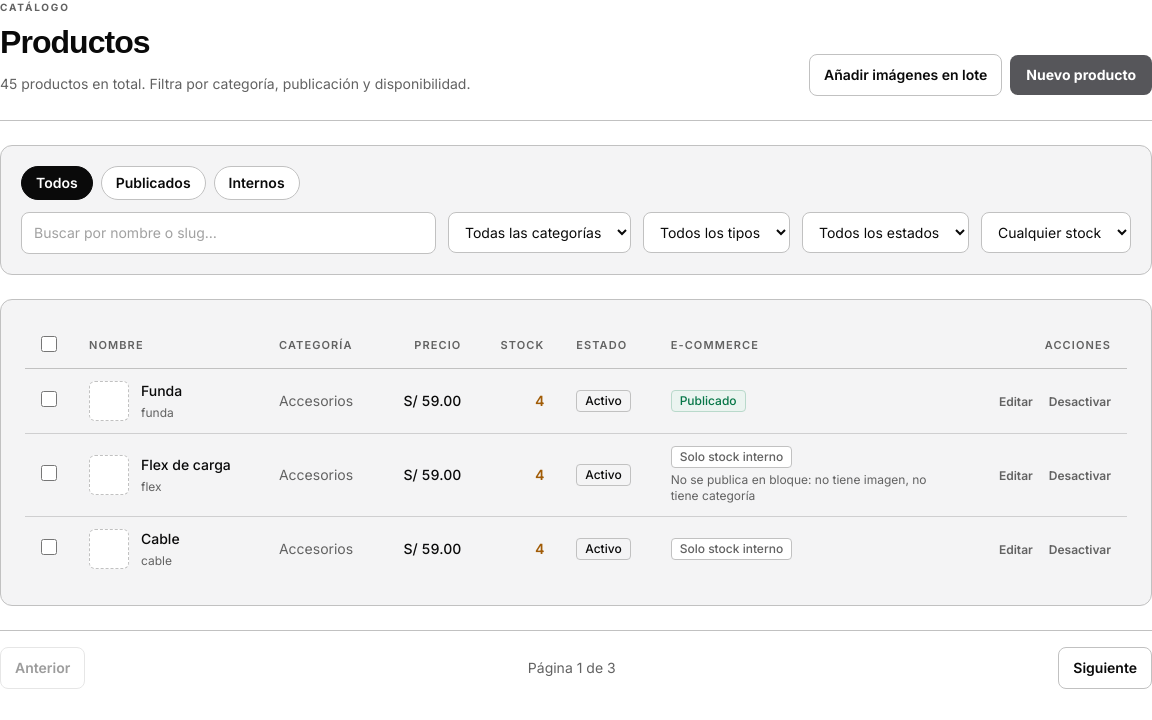
Test: la selección › con la página entera marcada y más resultados, ofrece todos con el total exacto
The width and height of the screenshot is (1152, 720).
Check: the link "Funda" is shown, box [141,382,182,399]
Check: the button "que coinciden" is not shown
Click the checkbox named "Seleccionar Funda": (49, 399) [41,391,57,407]
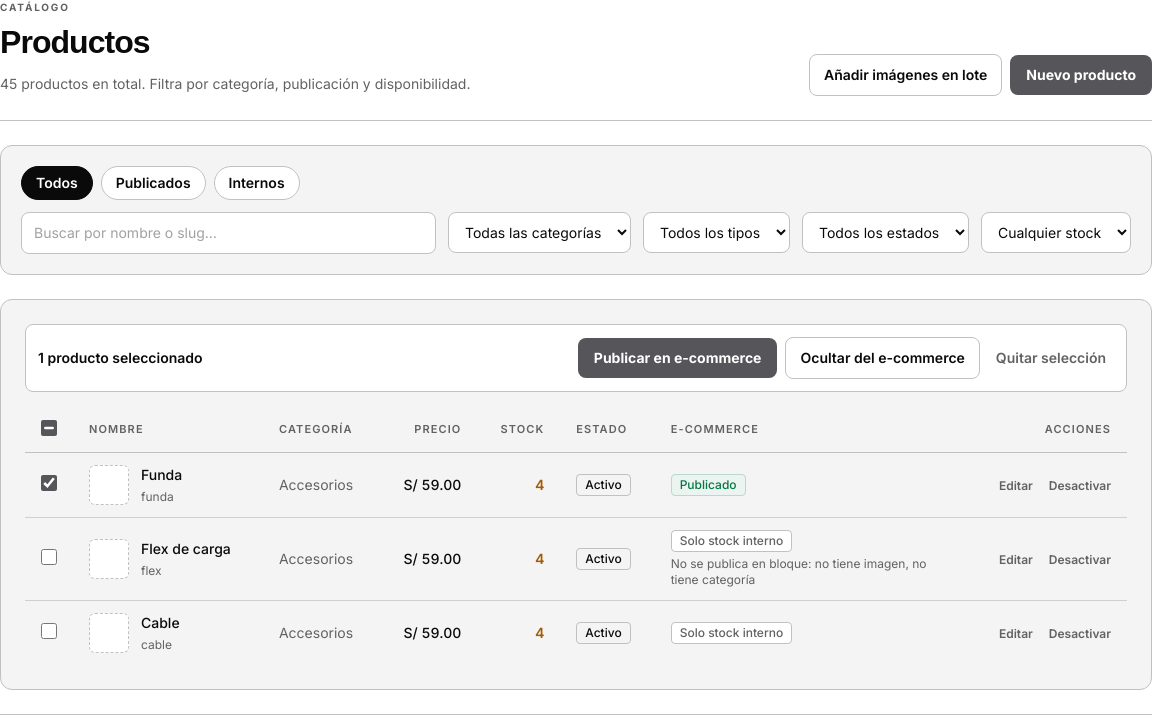
Check: the button "que coinciden" is not shown
Click the checkbox named "Seleccionar los 3 productos de esta página": (49, 428) [41,420,57,436]
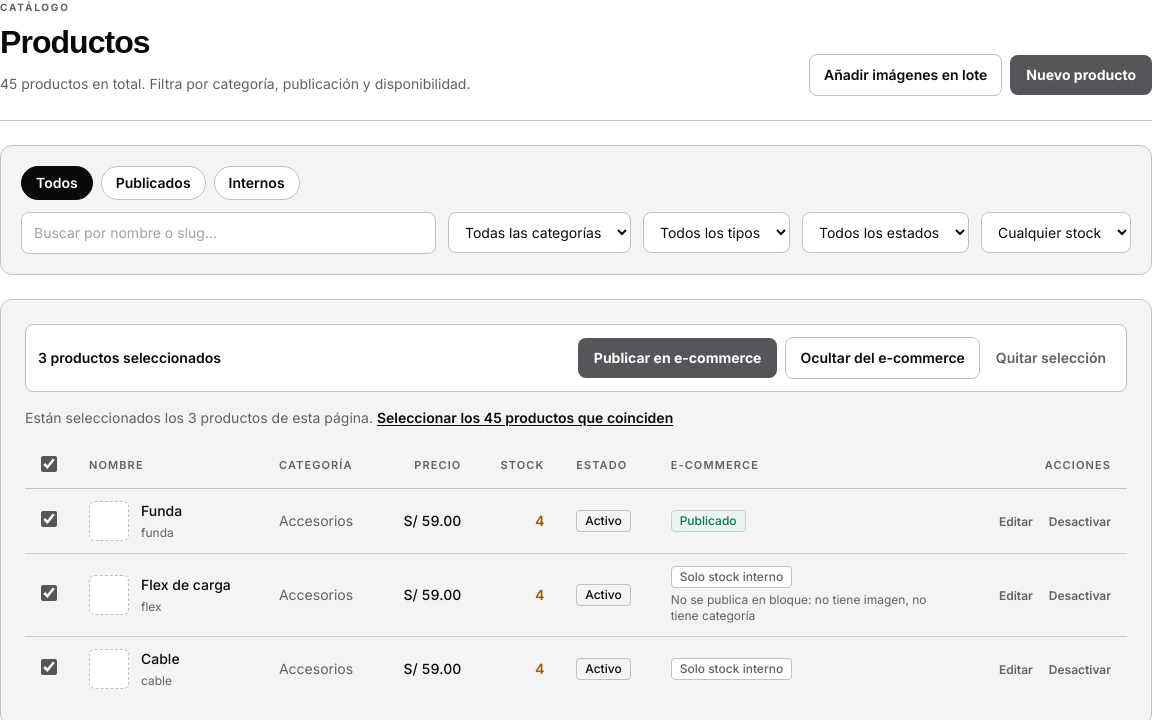
Click the button "Seleccionar los 45 productos que coinciden": (525, 418) [377,408,673,428]
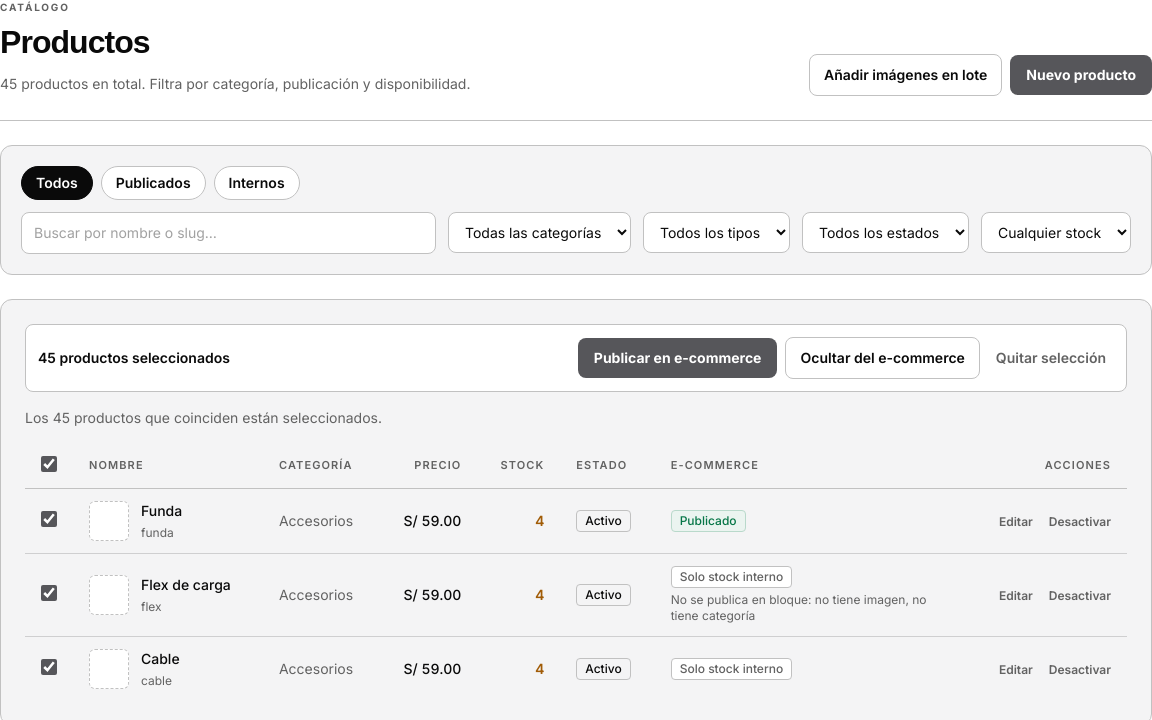
Check: the text "Los 45 productos que coinciden están seleccionados." is shown, box [25,409,382,426]
Check: the text "45 productos seleccionados" is shown, box [38,348,230,368]
